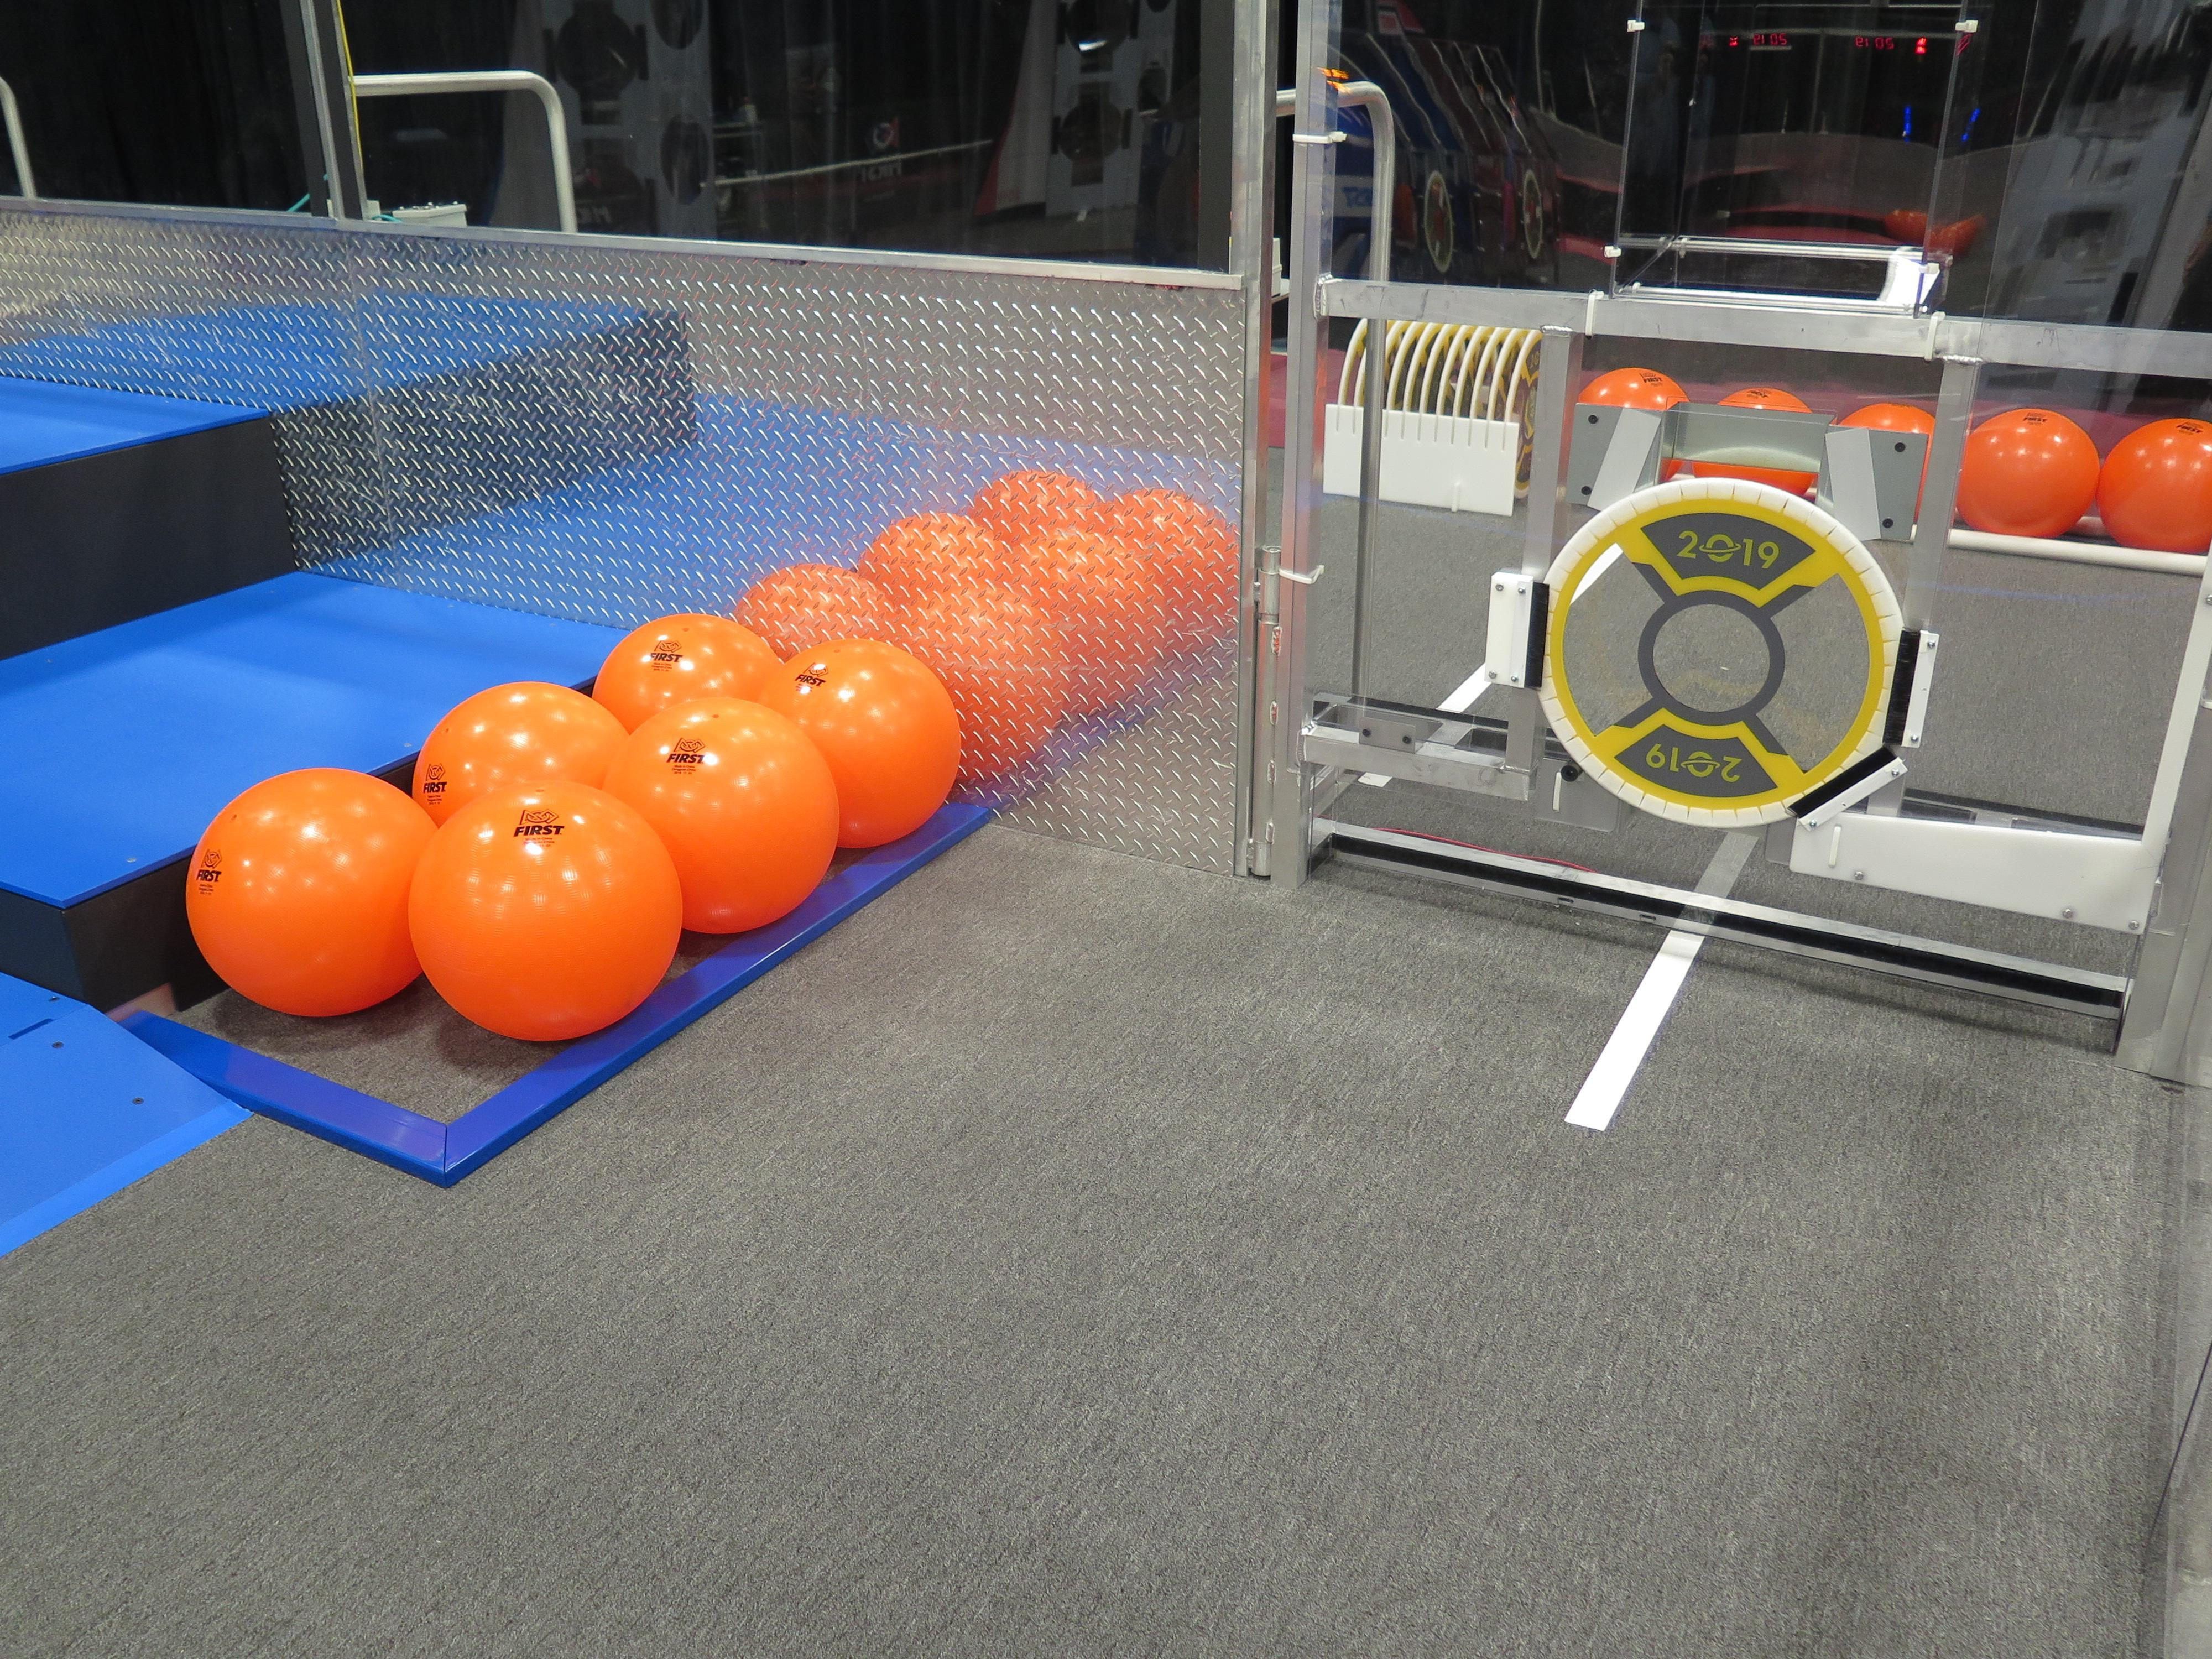Ball: (409, 774, 681, 1042), (181, 765, 444, 1021), (604, 695, 838, 938), (765, 638, 963, 854), (409, 680, 637, 831), (592, 613, 780, 742), (1954, 404, 2097, 538), (2099, 420, 2212, 554)
Hatch: (1538, 476, 1911, 831)
Tape: (1581, 403, 1662, 518), (1820, 423, 1886, 544)
